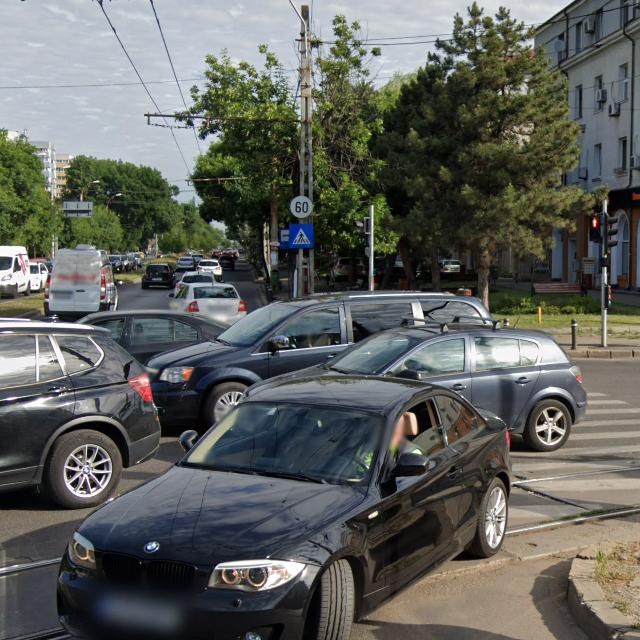forb_speed_over_60: (290, 196, 312, 220)
info_bus_station: (279, 228, 290, 249)
info_crosswalk: (288, 224, 314, 248)
